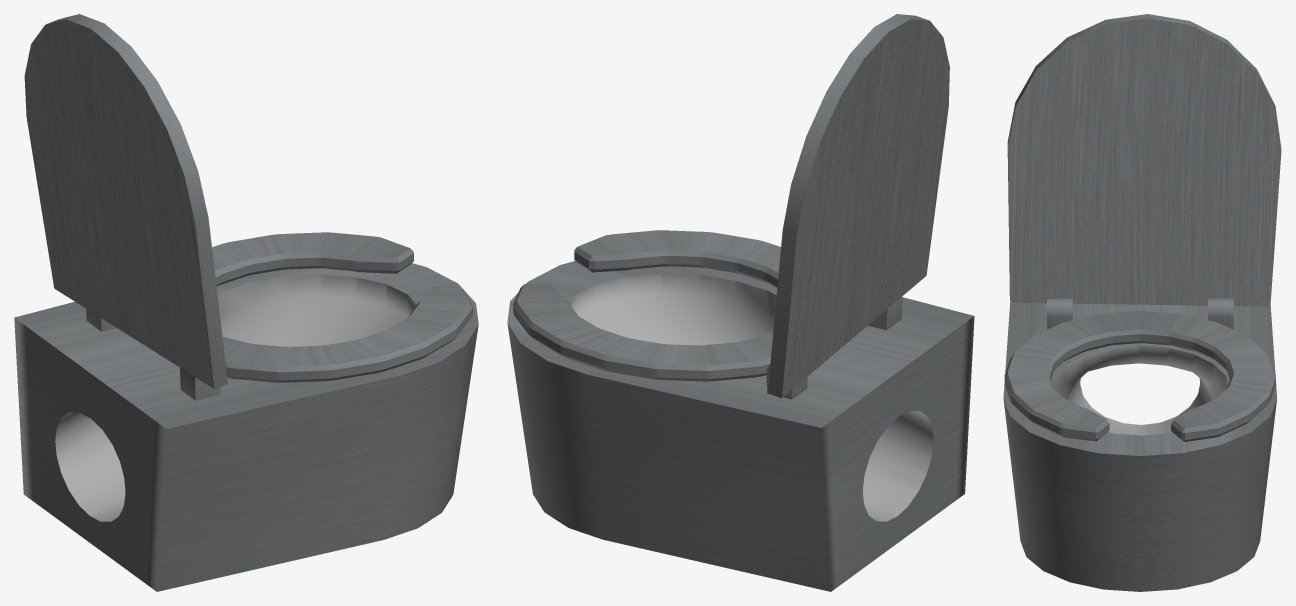
3 renders of one model, left to right at view 1: azimuth 30°, elevation 25°; view 2: azimuth 150°, elevation 25°; view 3: azimuth 270°, elevation 25°, orthographic. The views are drawn at different scales.
Parts seen in each view (by area): view 1: polySurface1, pCylinder3, pPipe1, pCylinder5; view 2: polySurface1, pCylinder3, pPipe1; view 3: pCylinder3, polySurface1, pPipe1, pCylinder7, pCylinder5.
Boxes of the visible parts, x1,y1,x2,y2 form: polySurface1: [14, 263, 478, 591]; pCylinder3: [24, 14, 227, 389]; pPipe1: [212, 232, 472, 382]; pCylinder5: [180, 368, 220, 400]; polySurface1: [507, 261, 974, 591]; pCylinder3: [768, 14, 949, 398]; pPipe1: [513, 230, 780, 381]; pCylinder3: [1007, 14, 1281, 306]; polySurface1: [1003, 302, 1276, 591]; pPipe1: [1004, 311, 1275, 441]; pCylinder7: [1208, 298, 1233, 329]; pCylinder5: [1047, 298, 1072, 329].
Bounding box in the file's own units: 52.96 × 70.41 × 40.54.
Materials: 2 (1 with a texture image).
